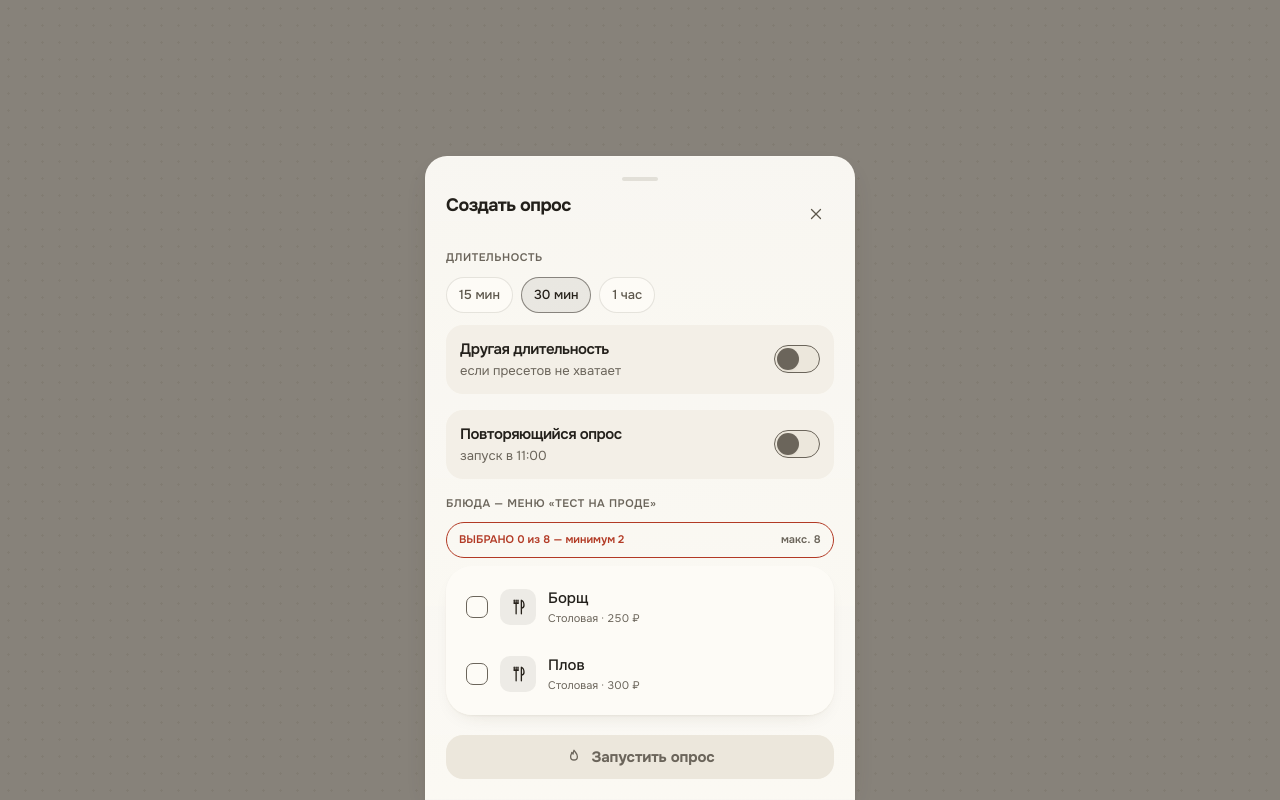
CreatePollSheet — длительность › нестандартная длительность расписания показывается числом, а не безымянным чипом
The width and height of the screenshot is (1280, 800).
Click the switch named "Повторяющийся опрос" at [797, 444], box x1=774 y1=430 x2=820 y2=458
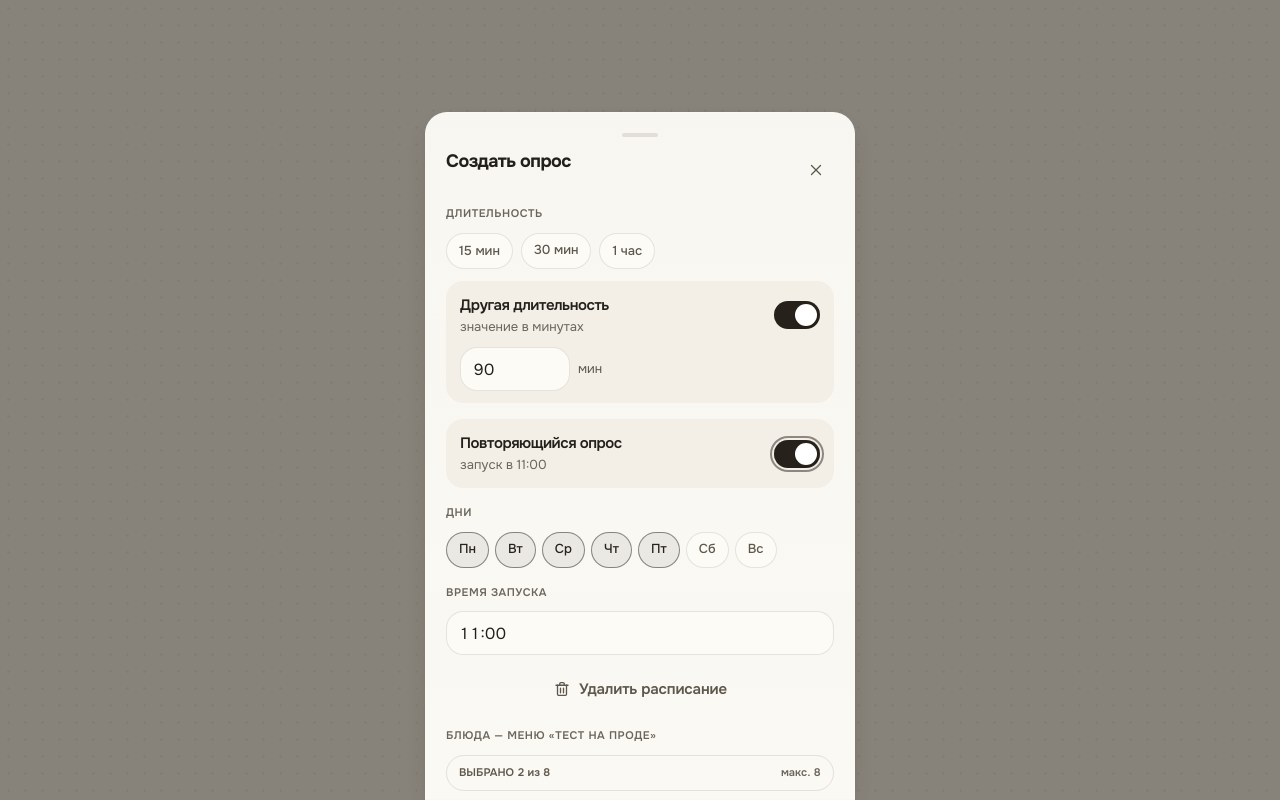
Expected: the number field named "Длительность в минутах" holds "90", x1=460 y1=347 x2=570 y2=391
